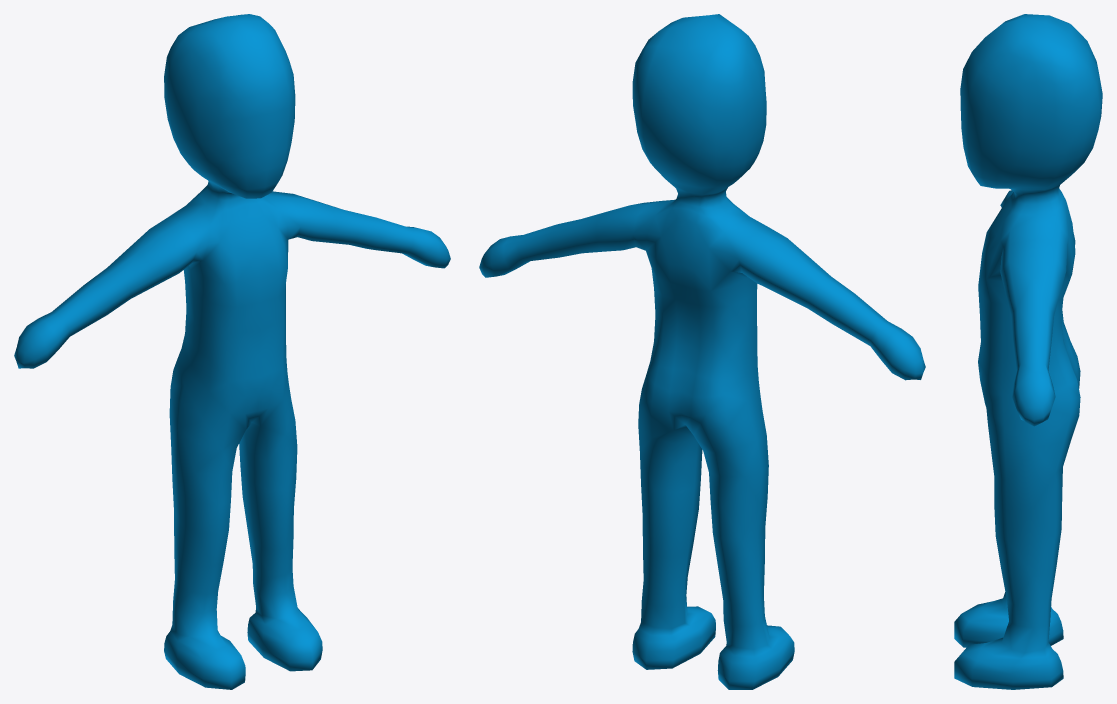
File: BaseCharacter.fbx
3 renders of one model, left to right at view 1: azimuth 30°, elevation 25°; view 2: azimuth 150°, elevation 25°; view 3: azimuth 270°, elevation 25°, orthographic. The views are drawn at different scales.
Parts seen in each view (by area): view 1: Bob; view 2: Bob; view 3: Bob.
Boxes of the visible parts, box(x1,y1,x2,y2) form: Bob: box(14, 14, 450, 689); Bob: box(479, 14, 925, 689); Bob: box(954, 14, 1102, 689).
Size of the model in its own units: 779 by 1094 by 230.
